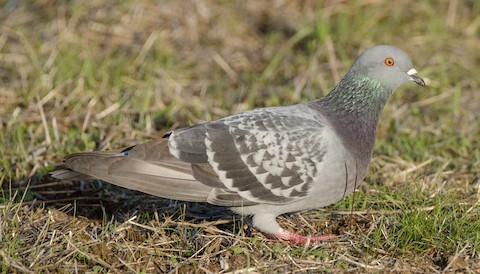pigeon: (48, 42, 438, 246)
